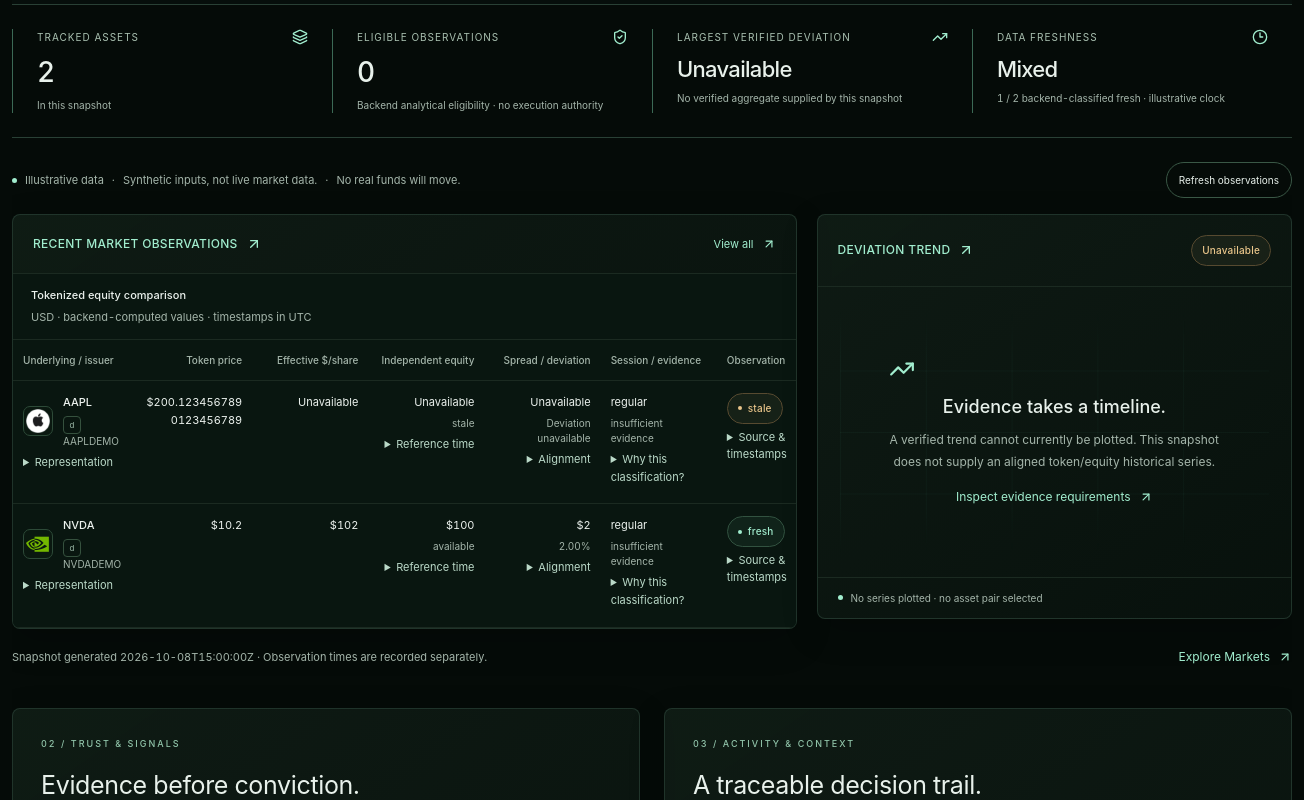
Test: clears prices while refreshing and after failure; does not expose raw upstream errors
Check: the text "$200.1234567890123456789" is shown, box [136,380,252,504]
Step 1. Click the button "Refresh observations" → click(1229, 180), box [1166,162,1292,198]
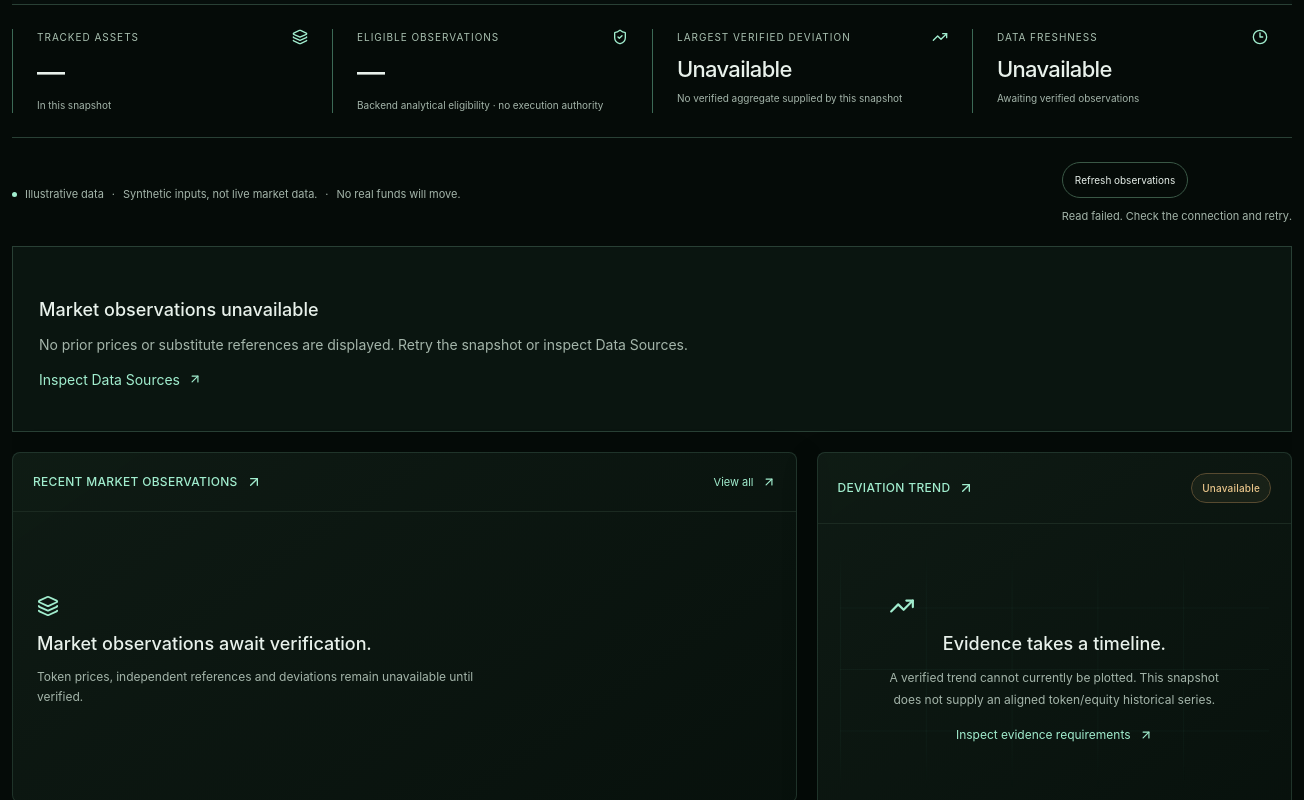
Check: the table is gone
Check: the message that starts with "Market observations unavailable" shows "No prior prices or substitute references", box [39,336,688,353]
